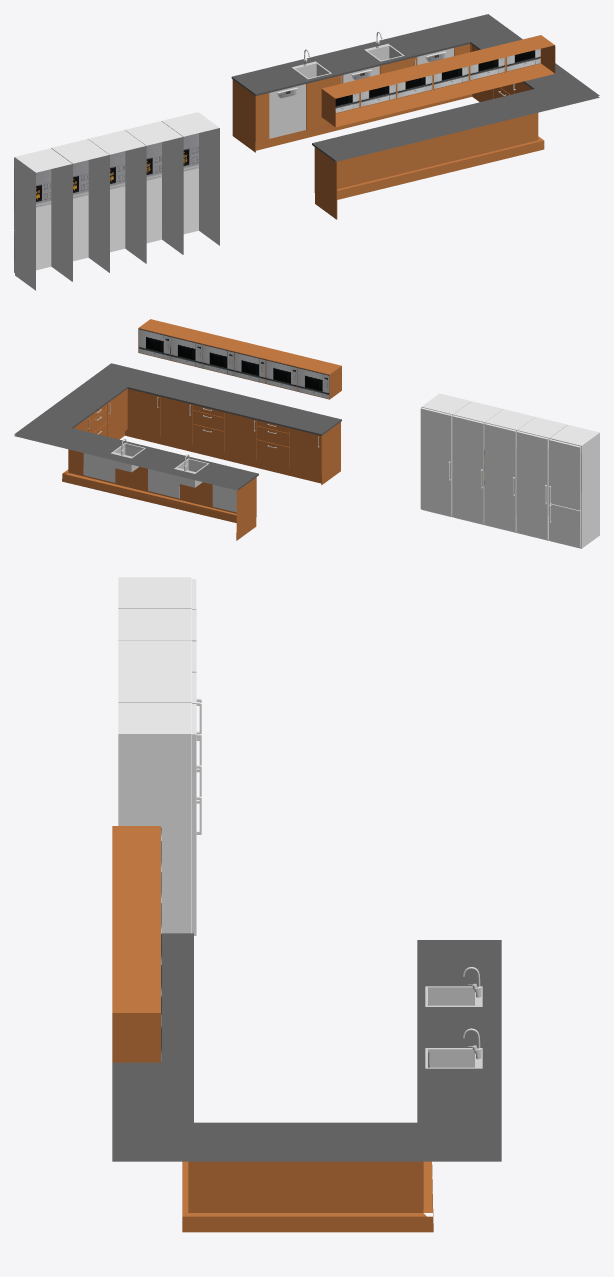
File: OrangeMainKitchen.fbx
3 views of the same model, one above another, from view 1: azimuth 30°, elevation 25°; view 2: azimuth 150°, elevation 25°; view 3: azimuth 270°, elevation 25° (orthographic). The views are drawn at different scales.
Parts seen in each view (by area): view 1: TopOG, cabOG1, miroBox, fridge_frez, fridge3, fridge2, fridge, fridge1, DishWasher, std_dr7, Fill, microwave3 (+6 smaller); view 2: TopOG, cabOG1, fridgeDoor, fridgeDoor2, fridgeDoor4, fridgeDoor3, miroBox, fridge_frez, fridgeDoor5, std_dr5, std_dr4, std_dr3 (+25 smaller); view 3: TopOG, cabOG1, fridge, miroBox, fridge1, fridge3, fridge2, fridge_frez, std_dr10, fridgeDoor, sink, sink1.
Part boxes in pixels (<box>): TopOG: <box>231,14,599,161</box>; cabOG1: <box>232,57,544,219</box>; miroBox: <box>321,35,555,127</box>; fridge_frez: <box>15,148,72,290</box>; fridge3: <box>52,139,109,281</box>; fridge2: <box>89,130,146,272</box>; fridge: <box>162,112,219,254</box>; fridge1: <box>125,121,182,263</box>; DishWasher: <box>269,84,305,138</box>; std_dr7: <box>306,75,342,129</box>; Fill: <box>255,93,268,142</box>; microwave3: <box>431,66,467,89</box>; TopOG: <box>14,363,341,490</box>; cabOG1: <box>62,389,340,540</box>; fridgeDoor: <box>420,407,452,516</box>; fridgeDoor2: <box>452,415,484,524</box>; fridgeDoor4: <box>484,423,516,532</box>; fridgeDoor3: <box>517,431,548,539</box>; miroBox: <box>138,319,341,399</box>; fridge_frez: <box>550,425,599,548</box>; fridgeDoor5: <box>549,439,581,510</box>; std_dr5: <box>128,389,160,436</box>; std_dr4: <box>160,397,192,444</box>; std_dr3: <box>289,428,321,475</box>; TopOG: <box>112,933,501,1161</box>; cabOG1: <box>182,1161,433,1232</box>; fridge: <box>118,703,191,933</box>; miroBox: <box>112,826,160,1062</box>; fridge1: <box>118,671,191,702</box>; fridge3: <box>118,609,191,640</box>; fridge2: <box>118,640,191,671</box>; fridge_frez: <box>118,577,191,608</box>; std_dr10: <box>344,1168,417,1210</box>; fridgeDoor: <box>192,704,196,935</box>; sink: <box>425,986,482,1006</box>; sink1: <box>425,1048,482,1068</box>.
Size of the model in its own units: 926 by 191 by 319.
6 materials, 2 textured.
